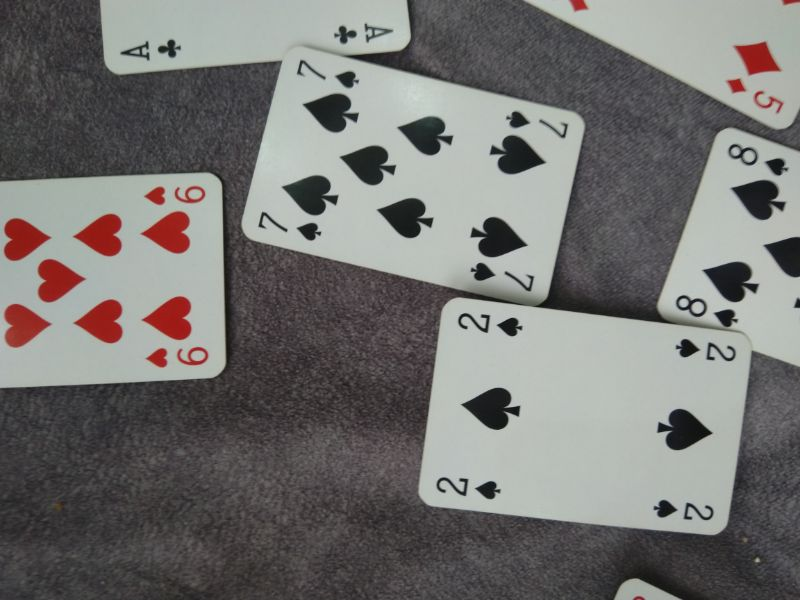2s: (455, 308, 527, 343), (666, 334, 738, 367), (433, 471, 504, 503), (652, 495, 716, 526)
5d: (723, 76, 788, 118)
7s: (467, 259, 538, 295), (290, 57, 362, 92), (505, 106, 571, 140), (254, 210, 323, 242)
8s: (670, 294, 741, 330), (726, 138, 790, 177)
9h: (141, 177, 208, 208), (143, 343, 212, 371)
Ac: (115, 35, 185, 63), (331, 18, 398, 46)
